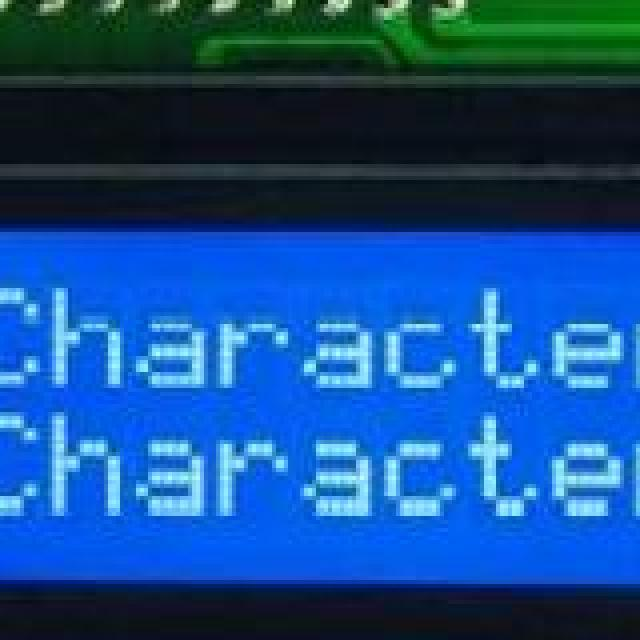display: (0, 76, 640, 640)
